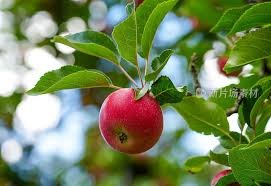Apple: (96, 85, 170, 154), (216, 50, 246, 77), (211, 166, 245, 186), (188, 10, 211, 32)
